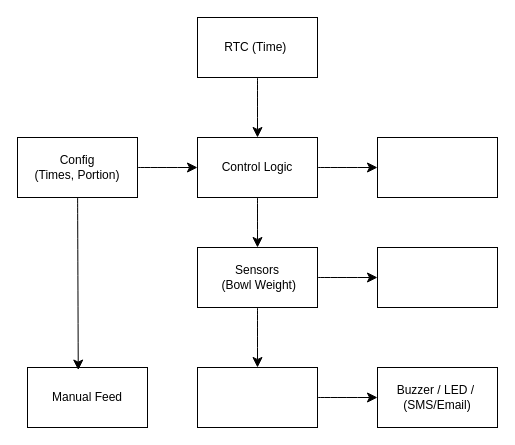
This 515x445 diagram has some shape labels left out. The centre of each missing label's shape, as x and y in pixels:
"Alerts & Logs" belongs at point 257,397.
"Bin Level Sensor" belongs at point 437,277.
"Servo Motor (Dispenser)" belongs at point 437,167.
